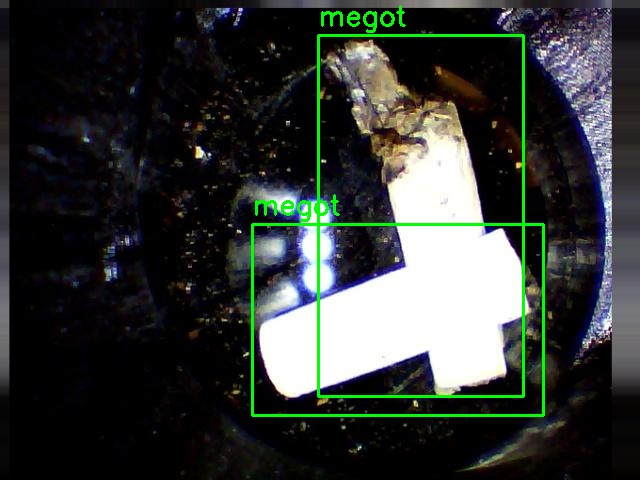megot: (318, 35, 523, 396), (252, 224, 543, 415)
